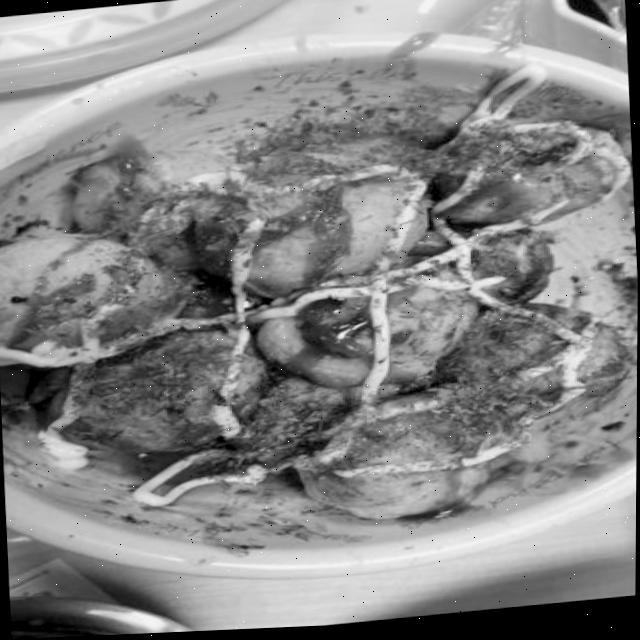炸货点心: (0, 8, 640, 601)
